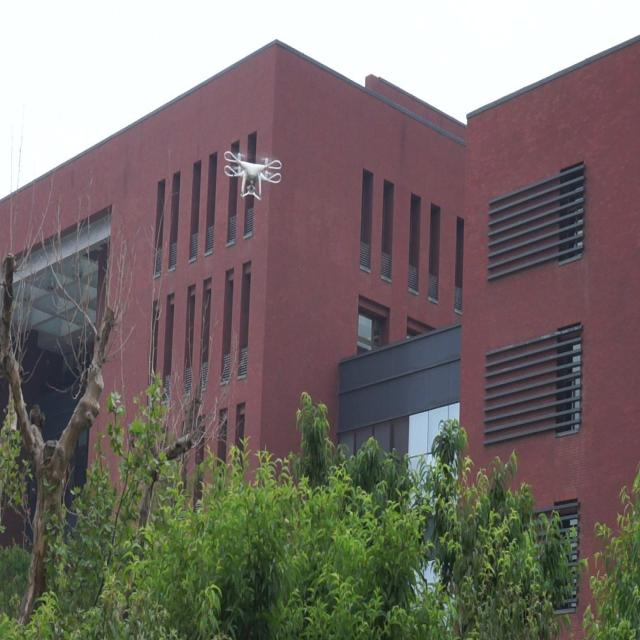drone: (222, 147, 284, 203)
